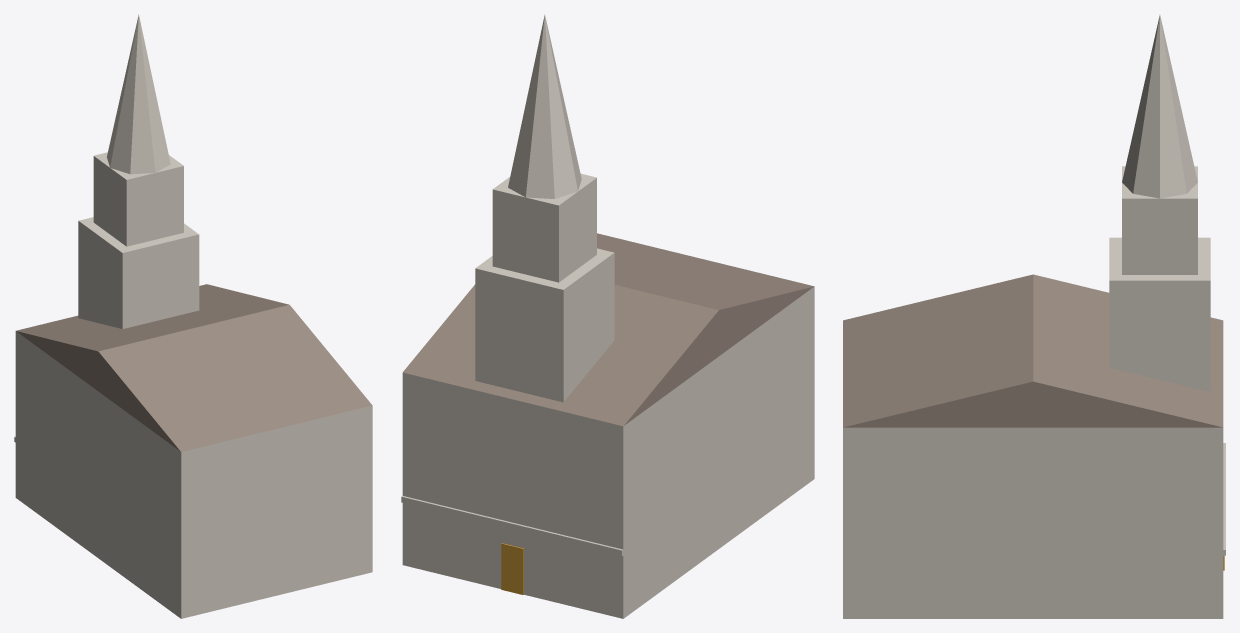
File: chunk_-1_3.glb
3 views of the same model, side by side, from view 1: azimuth 30°, elevation 25°; view 2: azimuth 150°, elevation 25°; view 3: azimuth 270°, elevation 25° (orthographic). The views are drawn at different scales.
Parts seen in each view (by area): view 1: chunk_-1_3__building, chunk_-1_3__chapel; view 2: chunk_-1_3__building, chunk_-1_3__chapel; view 3: chunk_-1_3__building, chunk_-1_3__chapel.
Boxes of the visible parts, left/top/right/bottom form: chunk_-1_3__building: left=14, top=284, right=372, bottom=618; chunk_-1_3__chapel: left=78, top=14, right=199, bottom=328; chunk_-1_3__building: left=401, top=233, right=814, bottom=618; chunk_-1_3__chapel: left=475, top=14, right=614, bottom=402; chunk_-1_3__building: left=843, top=274, right=1225, bottom=618; chunk_-1_3__chapel: left=1109, top=15, right=1210, bottom=392.
Size of the model in its own units: 12 by 28.8 by 18.12.
